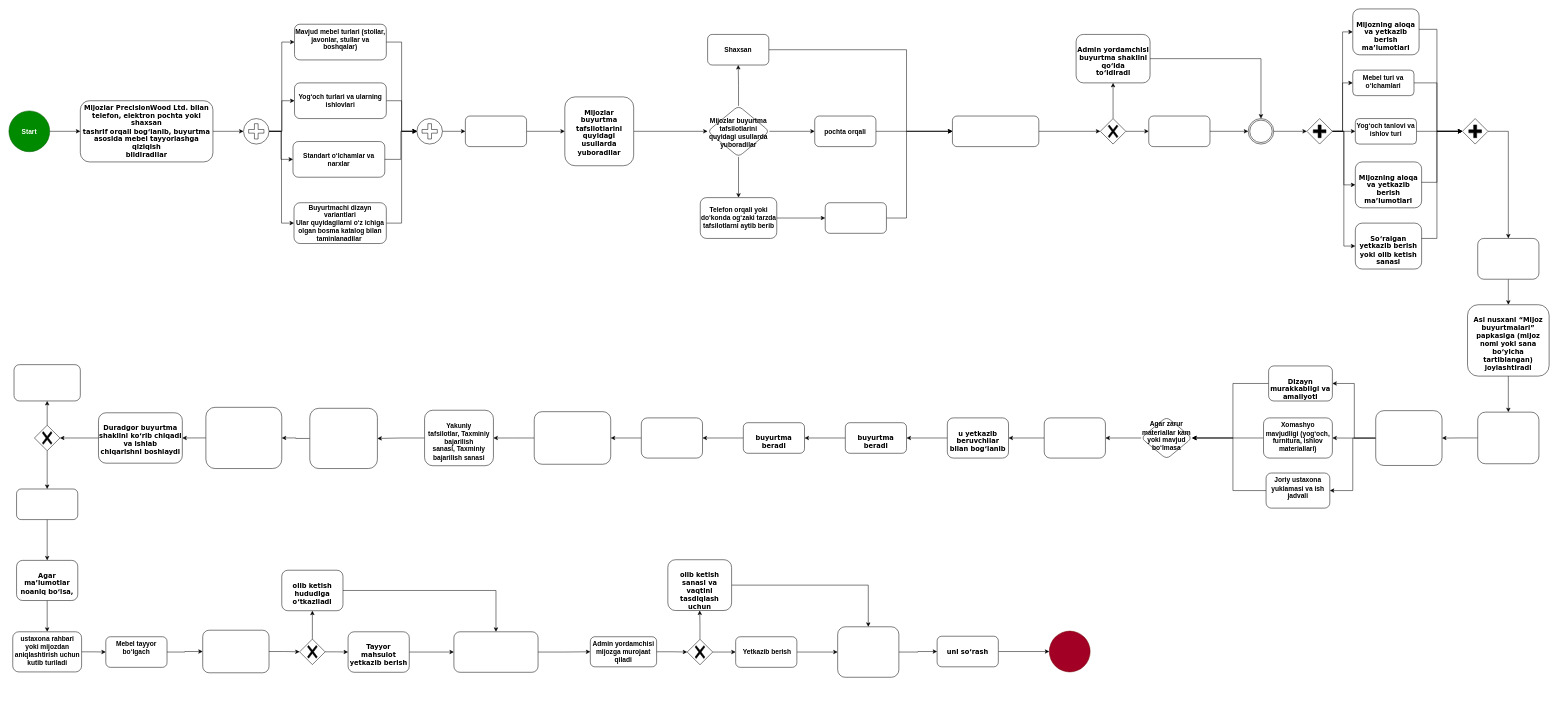
Some shapes in this 1558 by 710 pixel diagram are drawn without their labels. The shapes that lost their labels are listed below. From the top down, each one's centre as x and y in pixels, then its label:
At point 496,131: "Buyurtmani joylashtirish".
At point 995,131: "Ba’zan mijozlar chizmalar yoki namunaviy suratlarni email orqali yuboradilar".
At point 1179,131: "tekshiradi".
At point 855,217: "ularni xodimlar qo‘lda yozib oladi".
At point 1508,258: "Buyurtma shaklidan nusxa oladi".
At point 47,382: "Eslatmalar va o‘lchamlar ko‘pincha qayta yoziladi".
At point 243,438: "Endi bajarilishi mumkin bo‘lgan buyurtmalar faol “Ish navbati”ga o‘tkaziladi".
At point 343,438: "Ustaxona rahbari “Material kutmoqda” papkasini tekshiradi".
At point 572,437: "Mijozga telefon yoki email orqali quyidagilarni tasdiqlash uchun murojaat qiladi".
At point 672,437: "Buyurtmani “Ish navbati”ga qo‘shadi".
At point 1074,437: "rahbar admin yordamchisiga xabar beradi".
At point 1408,437: "Ustaxona rahbari buyurtmani quyidagilar bo‘yicha baholaydi".
At point 1508,438: "Nusxani Ustaxona rahbariga topshiradi".
At point 47,504: "og‘zaki tasdiqlanadi".
At point 235,651: "Buyurtma shakli “bajarildi” deb belgilanadi".
At point 495,651: "Shakl “Tugallangan buyurtmalar” papkasiga hujjatlashtirish uchun joylashtiriladi".
At point 868,651: "Agar to‘lov avval qilinmagan bo‘lsa".
At point 1069,651: "End".
